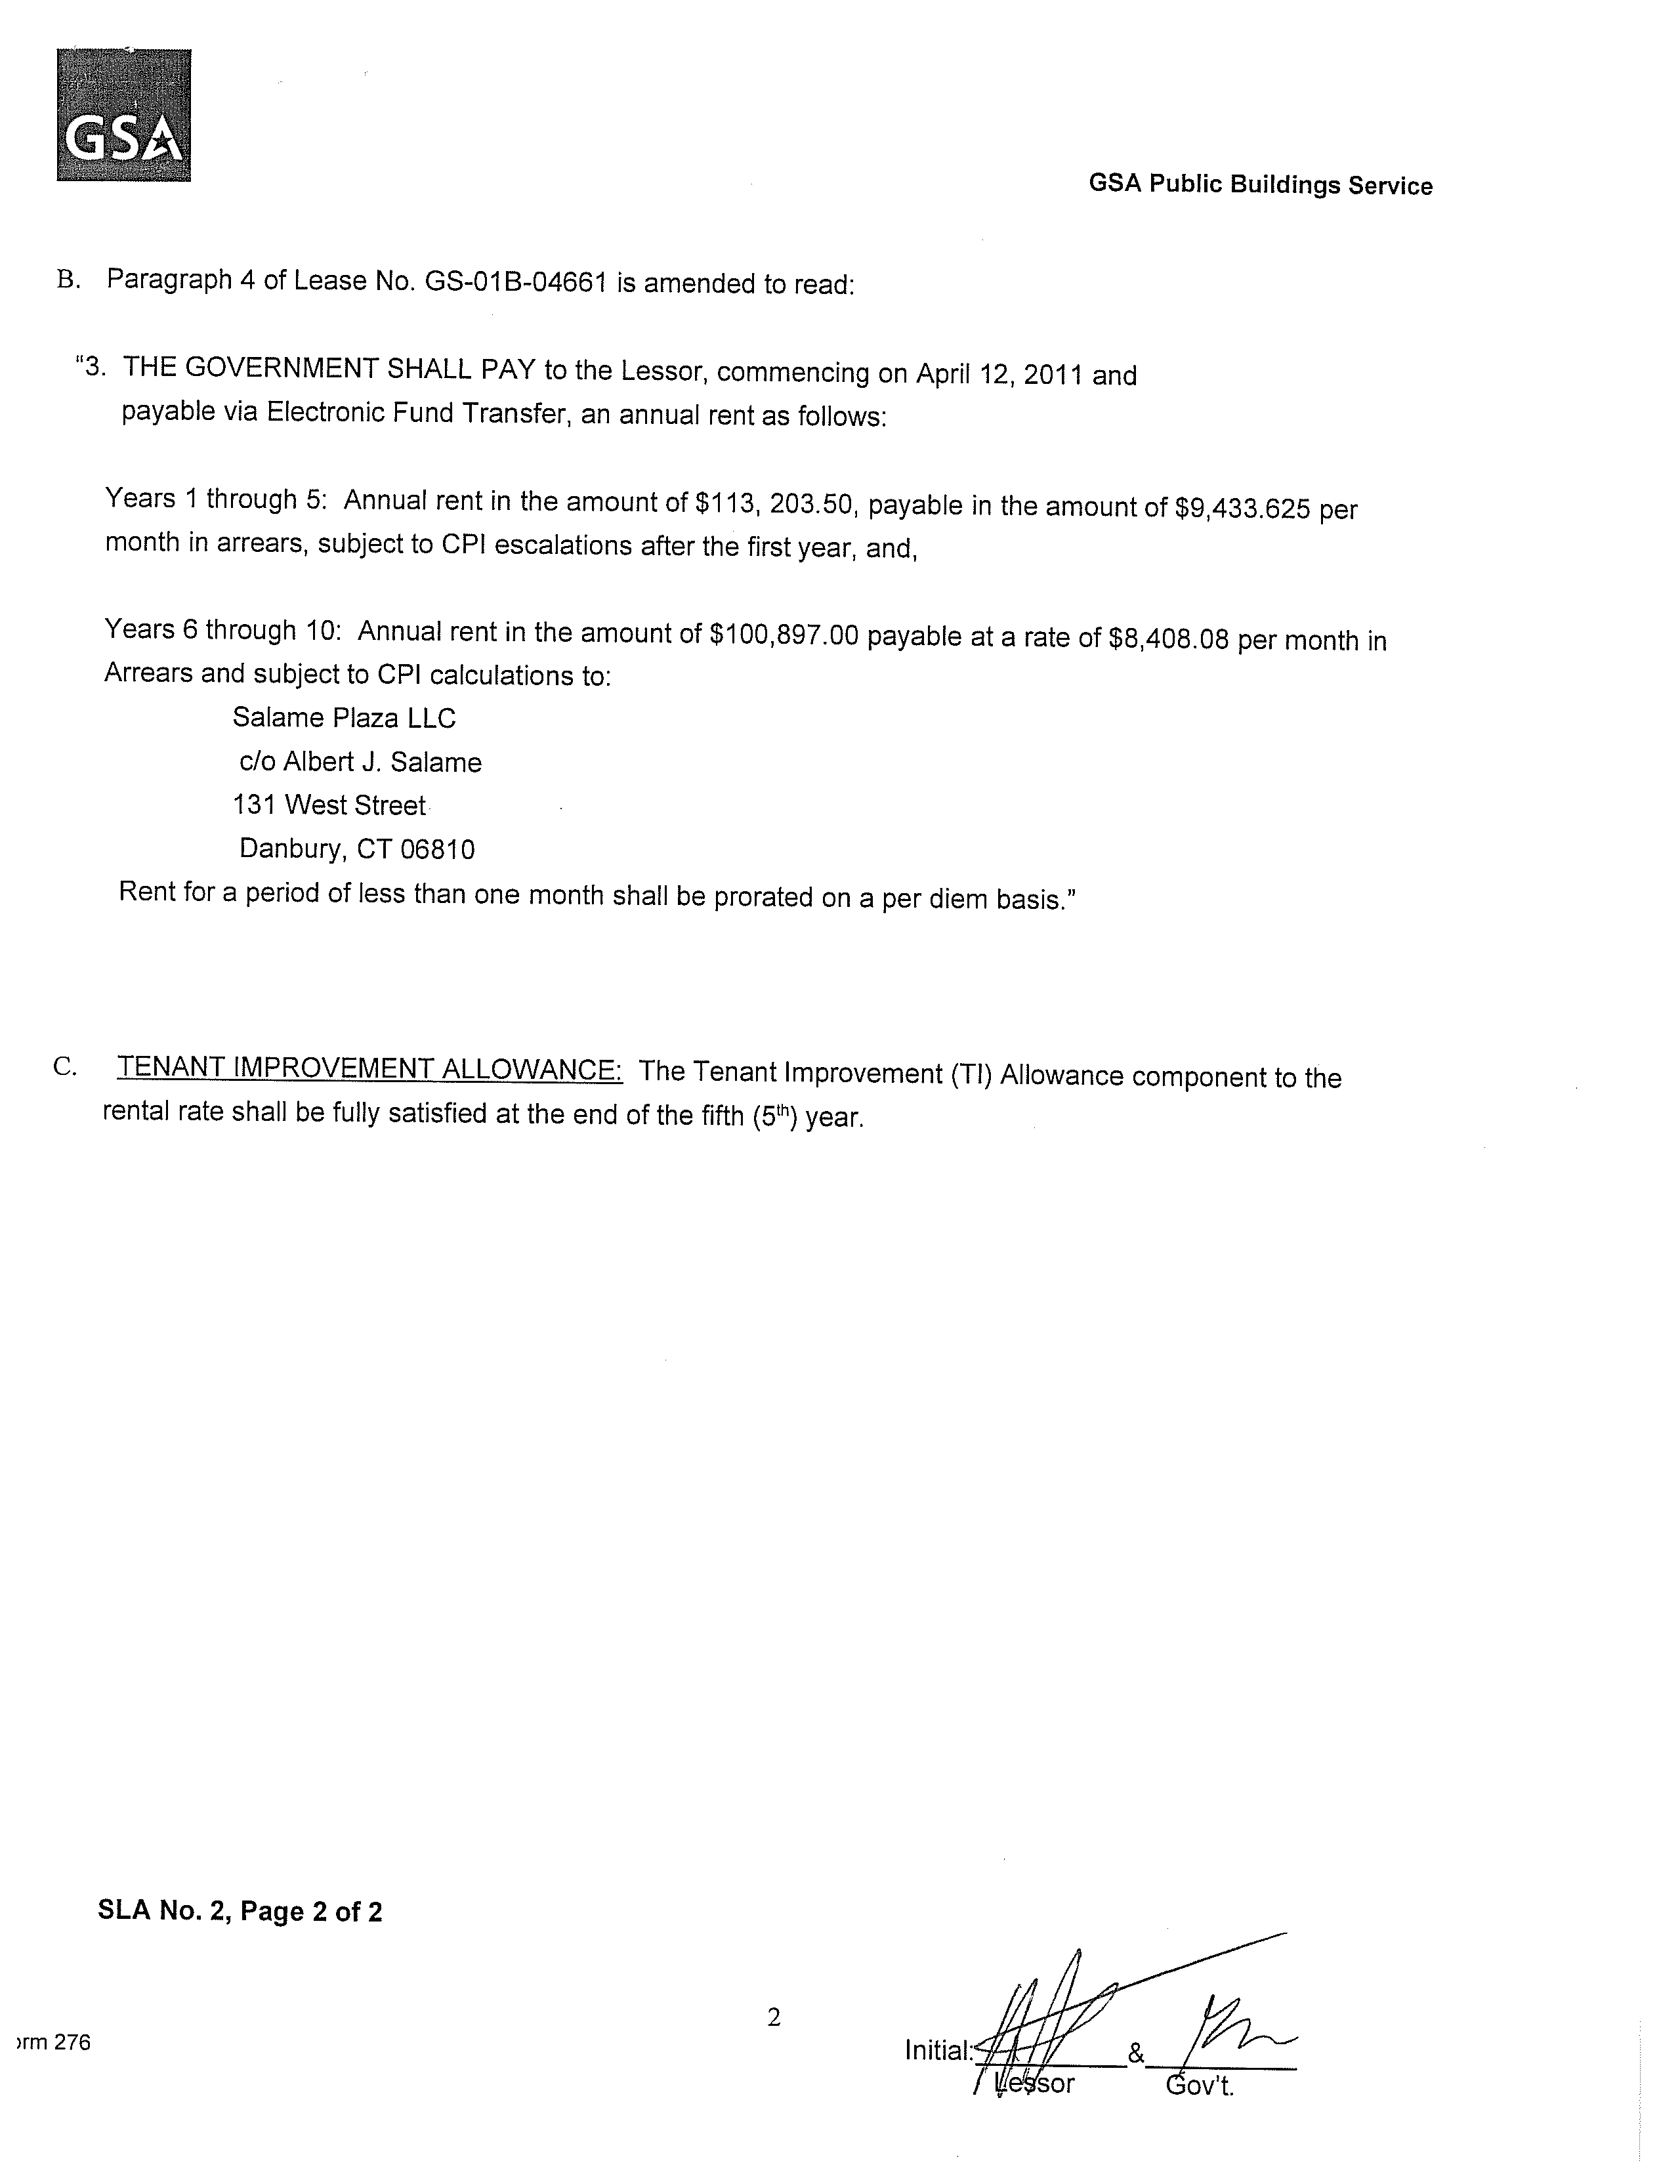handwritten: (981, 1889, 1376, 2062), (974, 1911, 1119, 2075), (1172, 1988, 1364, 2068)
